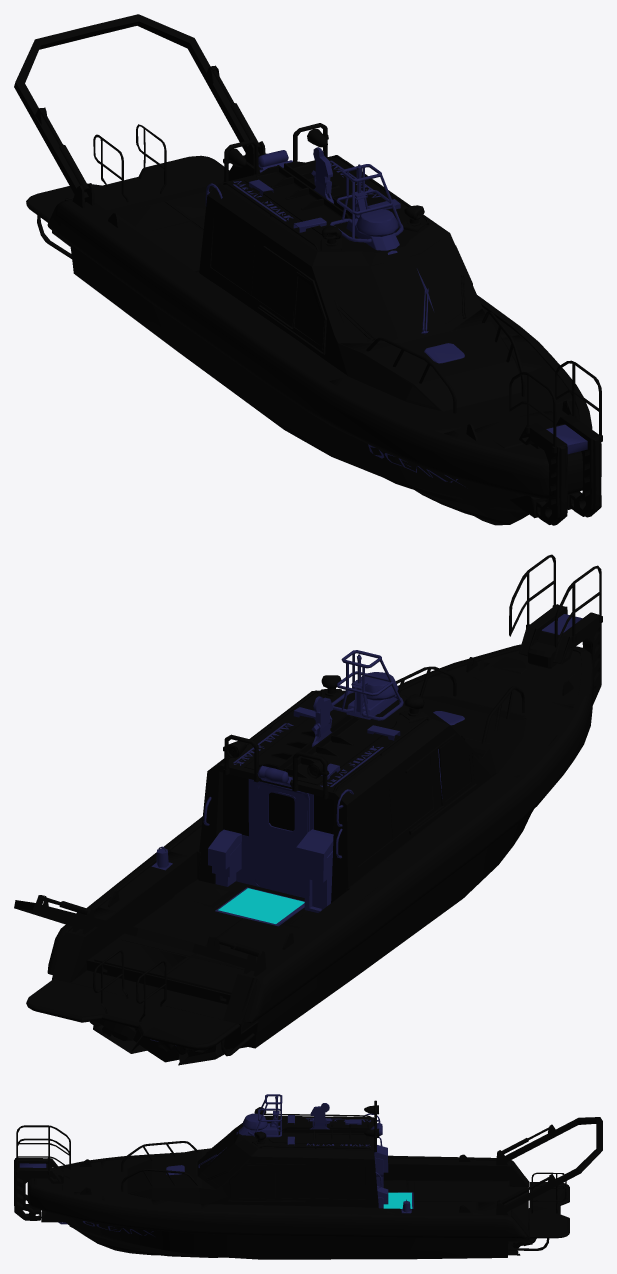
The model's file is metal_shark_optimized_01.fbx.
The picture shows the model from 3 angles, top to bottom: view 1: azimuth 30°, elevation 25°; view 2: azimuth 150°, elevation 25°; view 3: azimuth 270°, elevation 25°; orthographic projection. The views are drawn at different scales.
Visible parts, largest first — view 1: metal_shark_optimized_01; view 2: metal_shark_optimized_01; view 3: metal_shark_optimized_01.
Part boxes in pixels (box(x1,y1,x2,y2)): metal_shark_optimized_01: box(14, 14, 602, 525); metal_shark_optimized_01: box(14, 554, 602, 1065); metal_shark_optimized_01: box(14, 1094, 602, 1259).
Bounding box in the file's own units: 323 × 383 × 1276.
